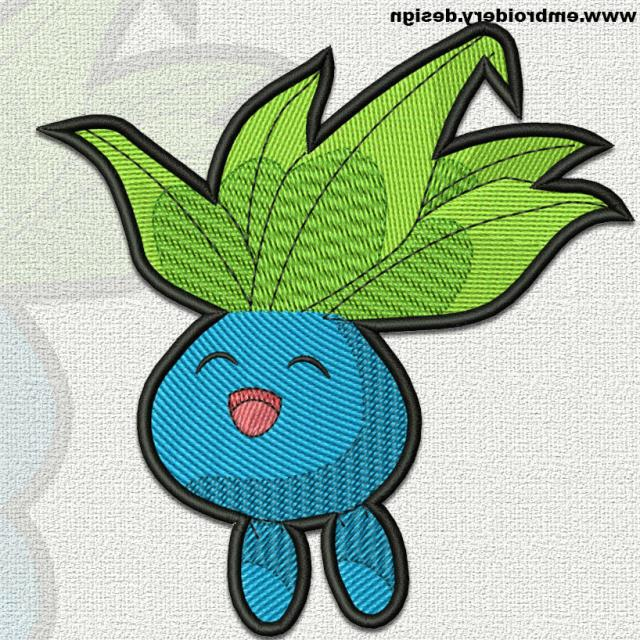Oddish: (105, 122, 457, 633)
